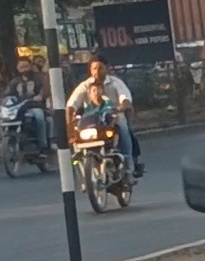BikeWithRider: (63, 55, 146, 216), (0, 52, 53, 184)
NoHelmet: (89, 56, 110, 78), (15, 54, 33, 79), (88, 82, 108, 102), (31, 54, 46, 72)
